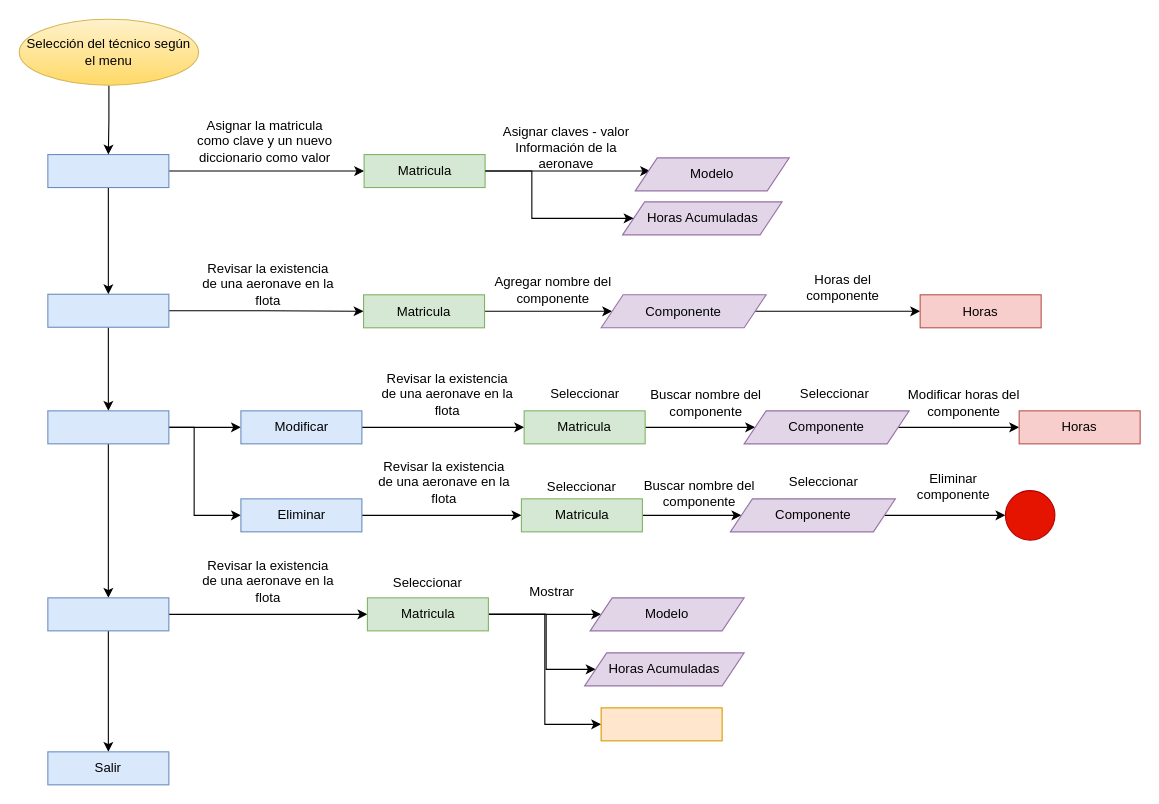
Image size: 1159x804. Some labels were removed from this diagram. Here are the shapes that lost their labels. From the top down, the centre of each, then its label:
(108,170): Registrar aeronave
(108,310): Registar componente
(108,427): Modificar componente
(108,614): Consultar aeronave
(661,724): Componentes
